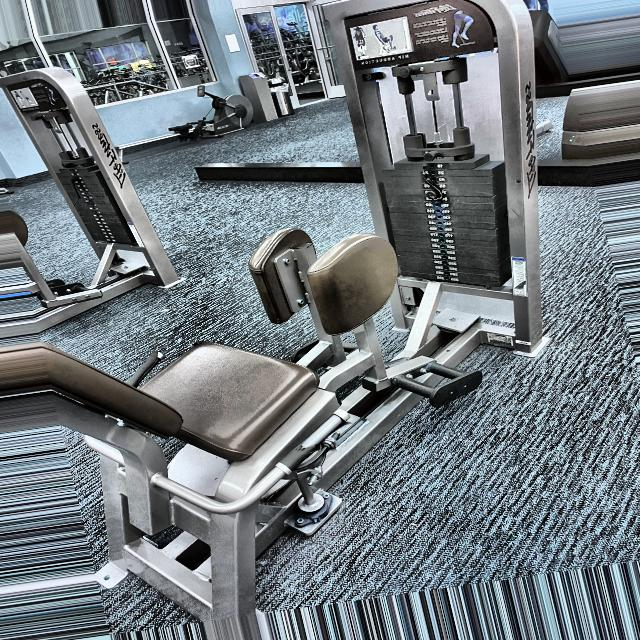hip_adduction_machine: (185, 229, 548, 453), (345, 10, 484, 60), (358, 54, 432, 68)
